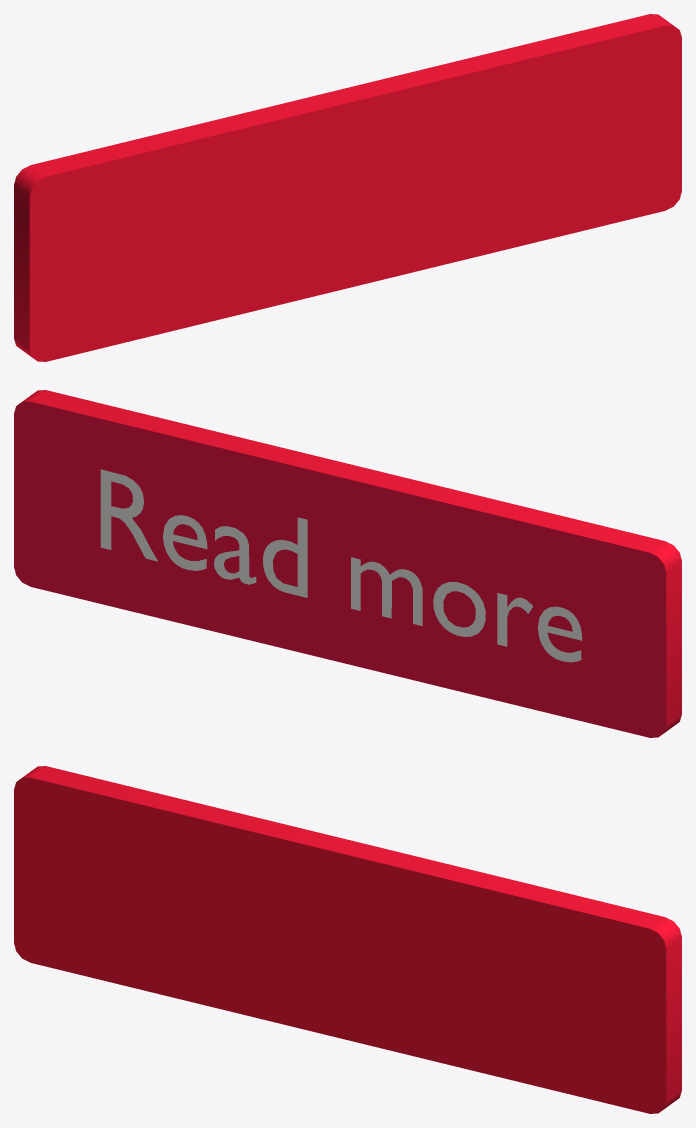
File: read_more_btn.glb
3 views of the same model, one above another, from view 1: azimuth 30°, elevation 25°; view 2: azimuth 150°, elevation 25°; view 3: azimuth 330°, elevation 25° (orthographic).
Visible parts, largest first — view 1: details_bg.001; view 2: details_bg.001, Text.005; view 3: details_bg.001.
Boxes of the visible parts, x1,y1,x2,y2 form: details_bg.001: (14,14,681,361); details_bg.001: (14,390,681,737); Text.005: (100,469,582,662); details_bg.001: (14,766,681,1113).
Bounding box in the file's own units: 0.26 × 0.0705 × 0.0134.
Materials: 1 (1 with a texture image).
